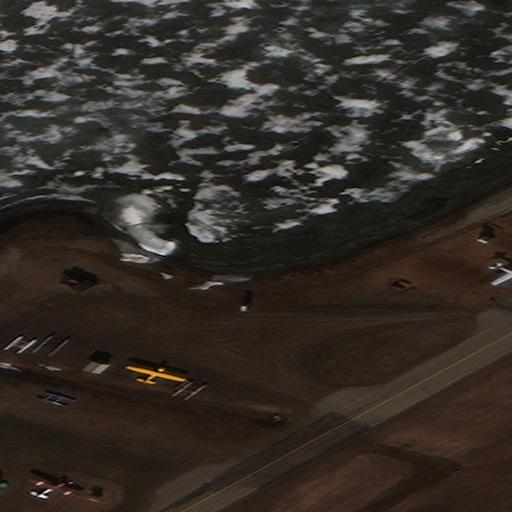Small Civil Transport: (127, 366, 186, 384), (28, 478, 79, 498), (494, 264, 512, 286)
